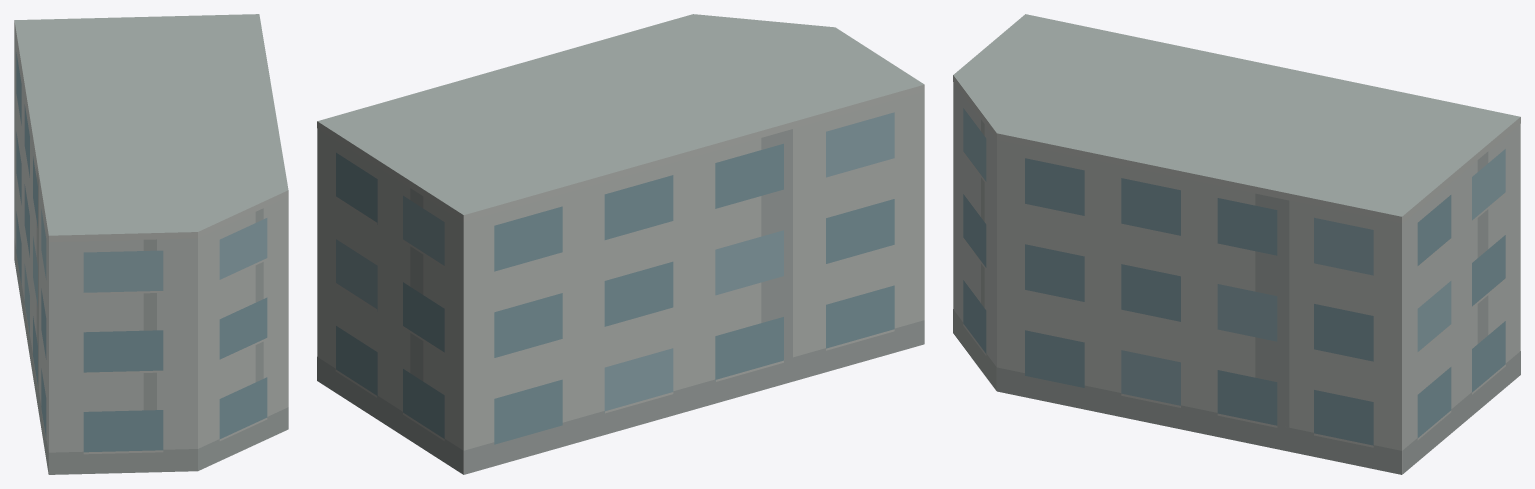
Rendered from residential-9742b52c-aea7-4176-9050-39c4816e40a6.glb.
3 views of the same model, side by side, from view 1: azimuth 30°, elevation 25°; view 2: azimuth 150°, elevation 25°; view 3: azimuth 270°, elevation 25° (orthographic). The views are drawn at different scales.
Visible parts, largest first — view 1: residential-9742b52c-aea7-4176-9050-39c4816e40a6.tmp; view 2: residential-9742b52c-aea7-4176-9050-39c4816e40a6.tmp; view 3: residential-9742b52c-aea7-4176-9050-39c4816e40a6.tmp.
Part boxes in pixels (box(x1,y1,x2,y2)): residential-9742b52c-aea7-4176-9050-39c4816e40a6.tmp: box(14, 14, 288, 474); residential-9742b52c-aea7-4176-9050-39c4816e40a6.tmp: box(317, 14, 924, 474); residential-9742b52c-aea7-4176-9050-39c4816e40a6.tmp: box(953, 14, 1520, 474).
Bounding box in the file's own units: 15.17 × 9 × 17.94.
